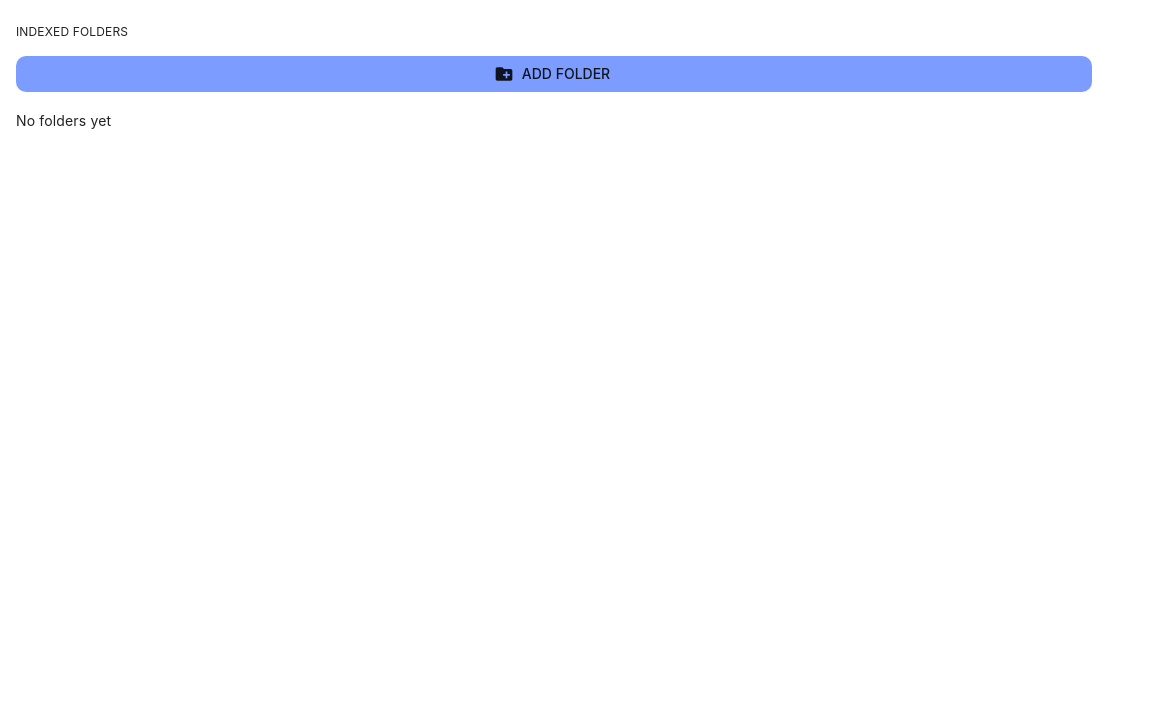
Scenario: Sidebar › discards the typed path when the dialog is cancelled
Click the button with test id "add-folder" at (554, 74), box [16, 56, 1092, 92]
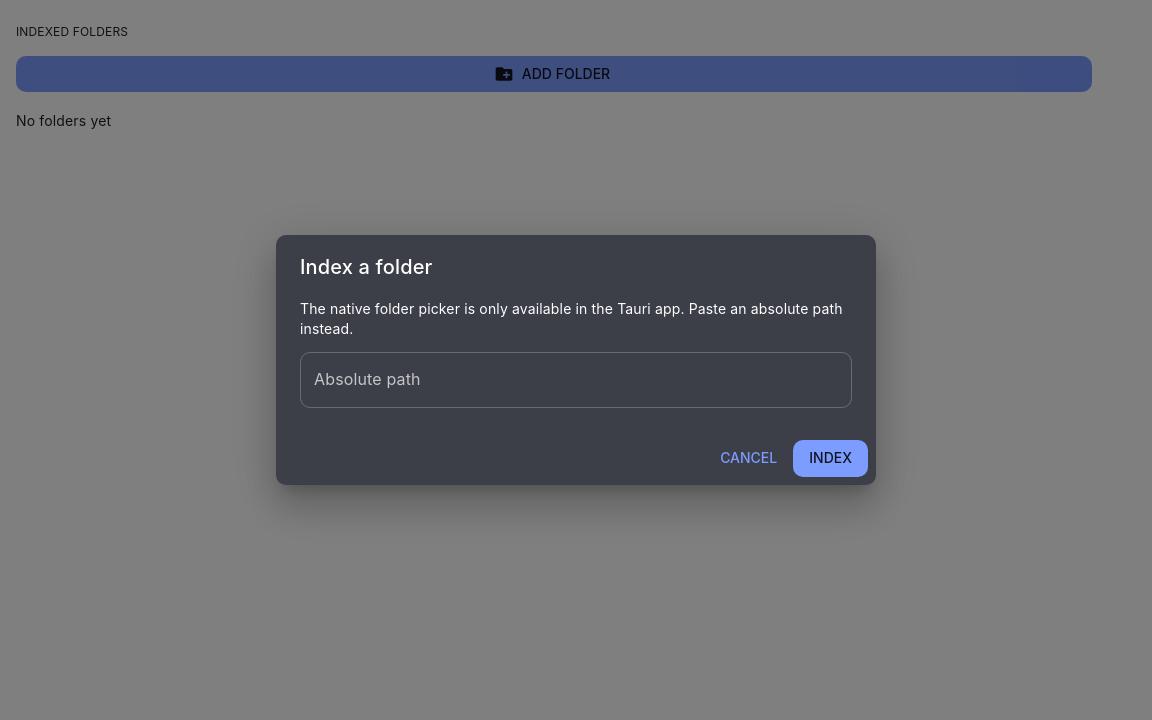
Type "/home/dev/web" into the field with test id "manual-path" at (576, 380), box [300, 352, 852, 408]
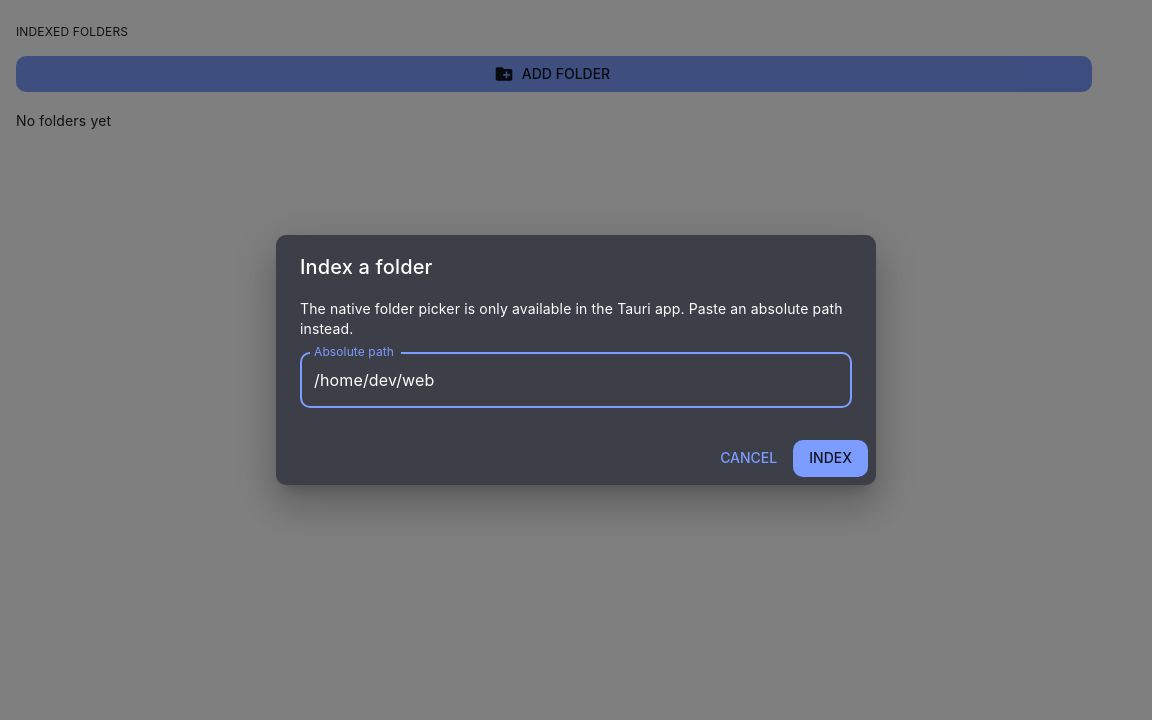
Click the button "Cancel" at (749, 458), box [712, 440, 785, 477]
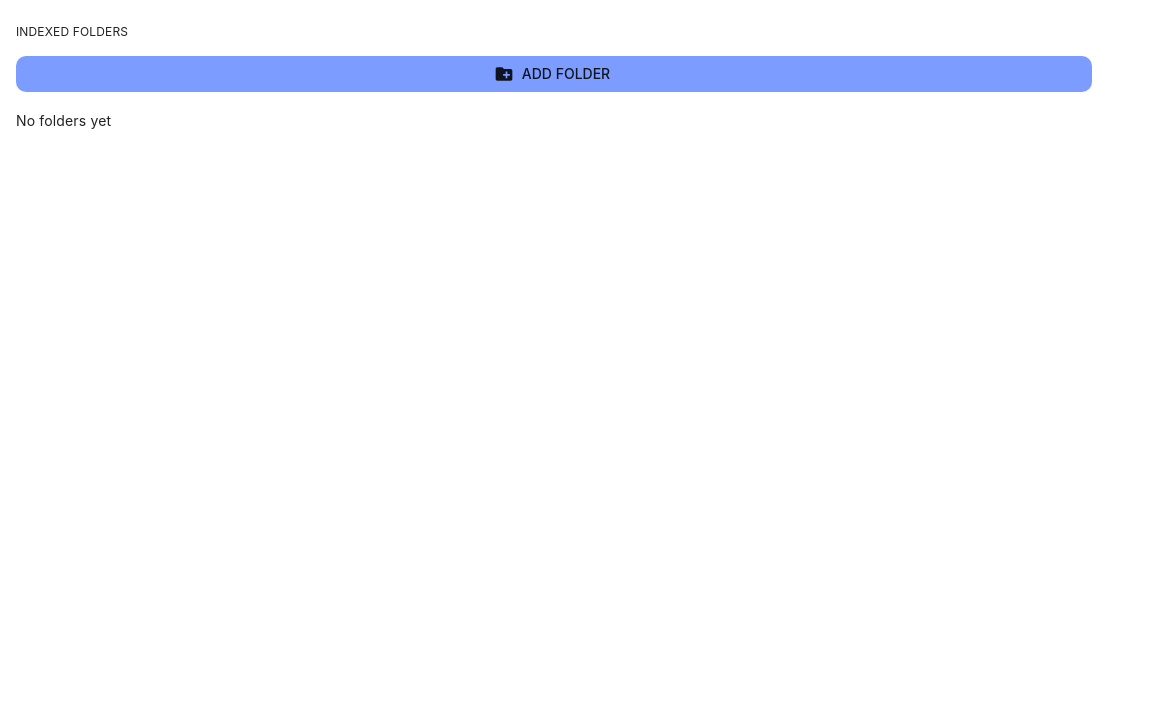
Note: Reopening must not resurrect the abandoned path.
Click the button with test id "add-folder" at (554, 74), box [16, 56, 1092, 92]
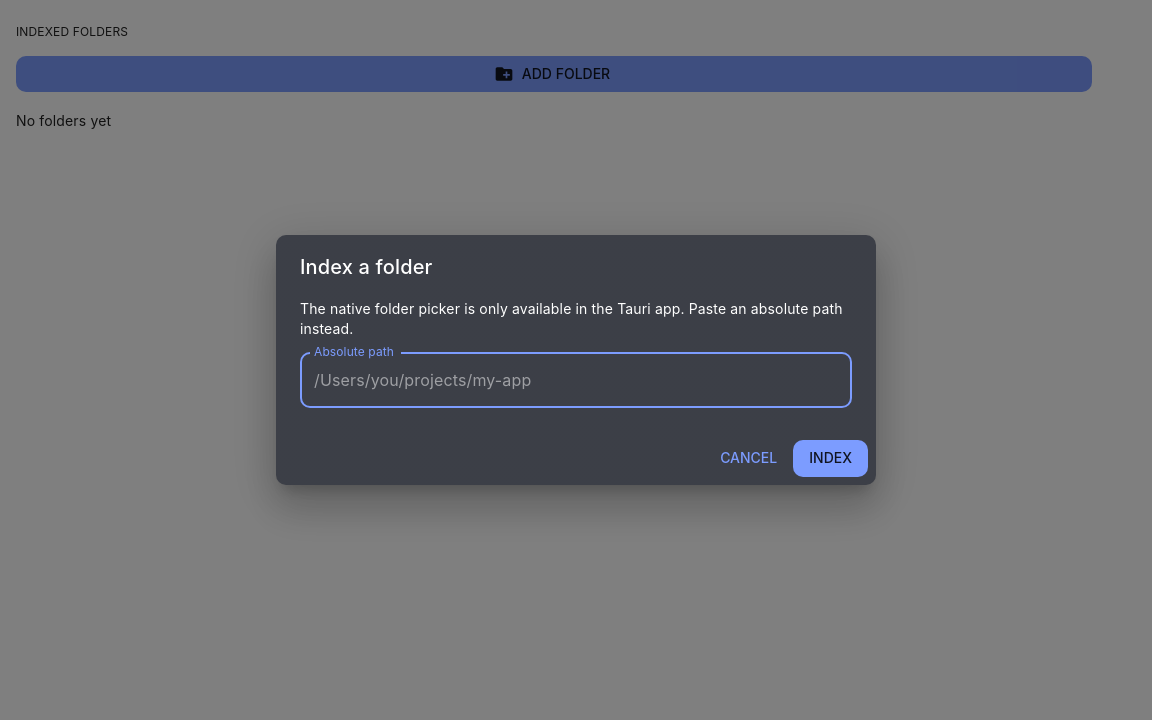
Now the field with test id "manual-path" is empty, box [300, 352, 852, 408]
